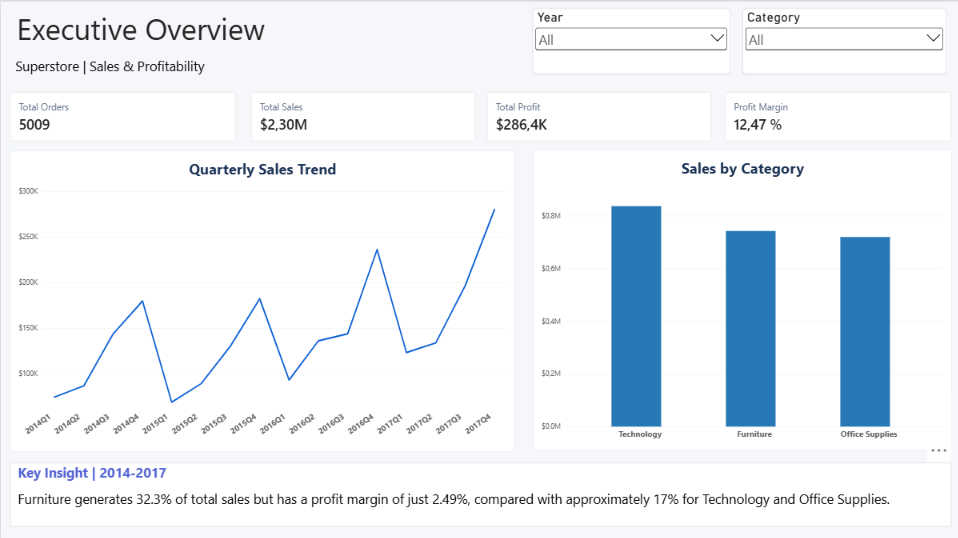

The page's visual inventory and layout, read from the dashboard file:
{"tool":"powerbi","page":{"name":"Executive Overview","canvas":[1920,1080],"ordinal":0},"visuals":[{"type":"cardVisual","fields":{"Data":["FactSales.Total orders"]},"box":[18.6,180,452.9,100],"z":0},{"type":"cardVisual","fields":{"Data":["FactSales.Total Sales"]},"box":[500,180,450,100],"z":1000},{"type":"cardVisual","fields":{"Data":["FactSales.Profit Margin"]},"box":[1448.6,180,454.3,100],"z":2000},{"type":"lineChart","title":"Quarterly Sales Trend","fields":{"Category":["DimDate.YearQuarter"],"Y":["FactSales.Total Sales"]},"box":[18,298,1010,602],"z":3000},{"type":"clusteredColumnChart","title":"Sales by Category","fields":{"Category":["DimProduct.Category"],"Y":["FactSales.Total Sales"]},"box":[1063.6,296.4,838.2,601.8],"z":4000},{"type":"slicer","fields":{"Values":["DimDate.Year"]},"box":[1064,14,394,130],"z":5000},{"type":"slicer","fields":{"Values":["DimProduct.Category"]},"box":[1484,14,406,130],"z":6000},{"type":"textbox","box":[0,14,806,176],"z":7000},{"type":"cardVisual","fields":{"Data":["FactSales.Total Profit"]},"box":[972.9,180,450,100],"z":8000},{"type":"textbox","box":[18.2,921.8,1883.6,129.1],"z":9000}]}

Visuals, with their boxes in screenshot pixels (x1, y1, x2, y2), scaled from the page's 1920x1080 canvas onto the 958x538 screenshot:
cardVisual - FactSales.Total orders: [9,90,235,139]
cardVisual - FactSales.Total Sales: [249,90,474,139]
cardVisual - FactSales.Profit Margin: [723,90,949,139]
"Quarterly Sales Trend" lineChart: [9,148,513,448]
"Sales by Category" clusteredColumnChart: [531,148,949,447]
slicer - DimDate.Year: [531,7,727,72]
slicer - DimProduct.Category: [740,7,943,72]
textbox: [0,7,402,95]
cardVisual - FactSales.Total Profit: [485,90,710,139]
textbox: [9,459,949,524]
